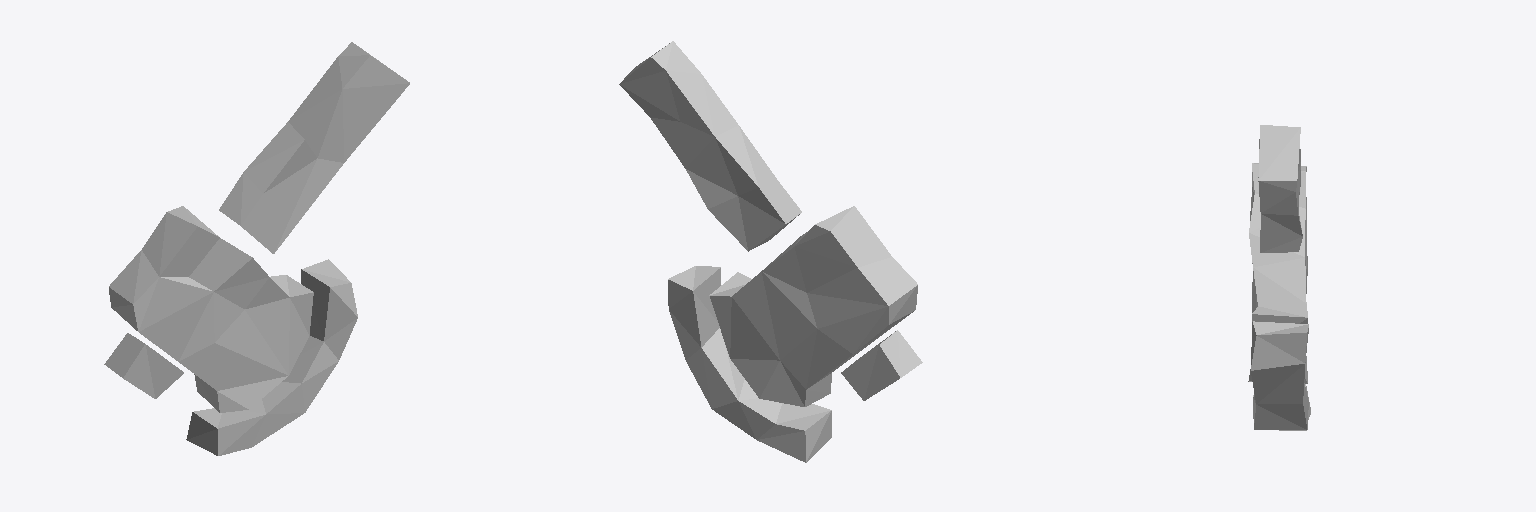
The model's file is 3d_axe.obj.
3 renders of one model, left to right at view 1: azimuth 30°, elevation 25°; view 2: azimuth 150°, elevation 25°; view 3: azimuth 270°, elevation 25°, orthographic.
Parts seen in each view (by area): view 1: Axe_Curve.002; view 2: Axe_Curve.002; view 3: Axe_Curve.002.
Boxes of the visible parts, box(x1,y1,x2,y2) form: Axe_Curve.002: box(104, 42, 409, 455); Axe_Curve.002: box(619, 41, 922, 462); Axe_Curve.002: box(1248, 125, 1310, 430).
Size of the model in its own units: 0.8515 by 1.03 by 0.1618.